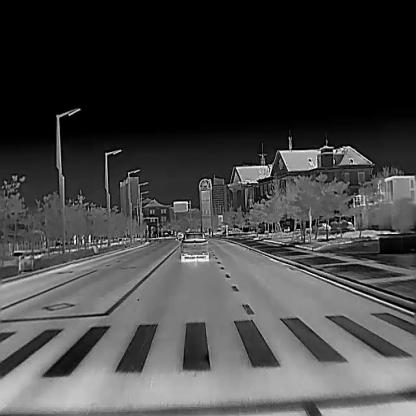car: (180, 230, 209, 259), (313, 222, 330, 230), (227, 228, 242, 233), (176, 231, 184, 239)
